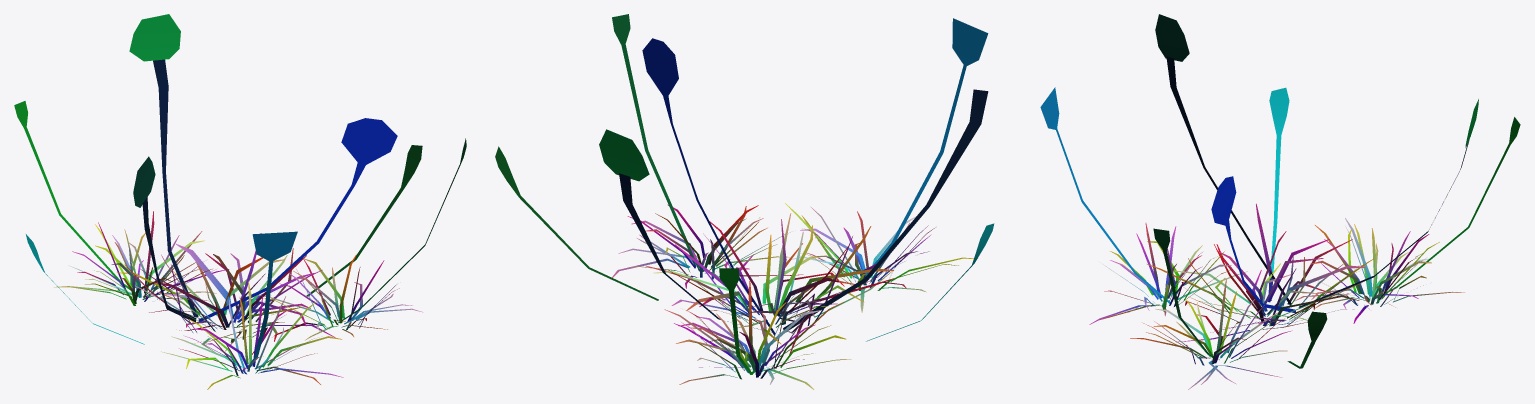
File: Sea_Thrift_vkbgaihha_Mid_vkbgaihha_VarD_LOD2.fbx
3 views of the same model, side by side, from view 1: azimuth 30°, elevation 25°; view 2: azimuth 150°, elevation 25°; view 3: azimuth 270°, elevation 25° (orthographic). The views are drawn at different scales.
Visible parts, largest first — view 1: _pssk_VarD_LOD3; view 2: _pssk_VarD_LOD3; view 3: _pssk_VarD_LOD3.
Boxes of the visible parts, x1,y1,x2,y2 form: _pssk_VarD_LOD3: [14, 14, 466, 389]; _pssk_VarD_LOD3: [495, 14, 994, 389]; _pssk_VarD_LOD3: [1040, 14, 1520, 389].
Size of the model in its own units: 33.41 by 18.41 by 33.55.
